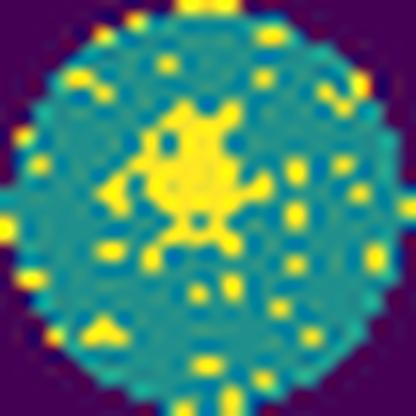Center: (103, 96, 275, 270)
